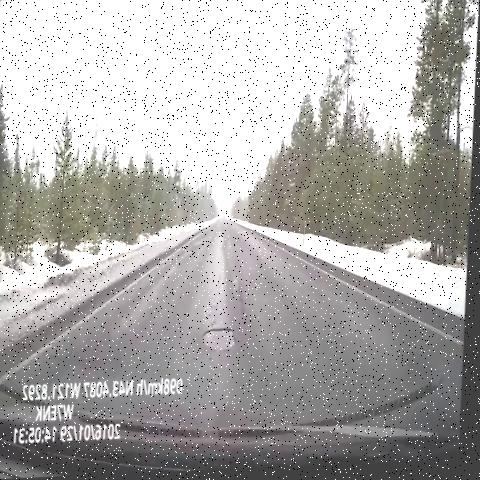pothole: (198, 315, 250, 365)
